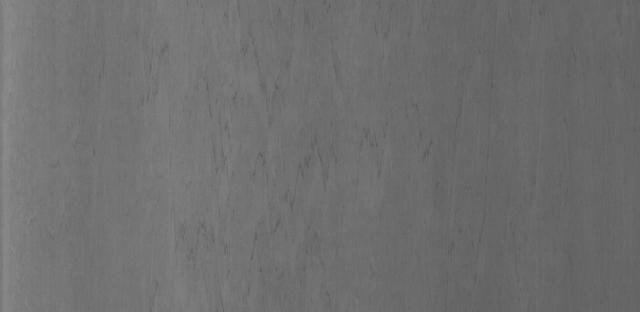silk_spot: (173, 25, 358, 256)
